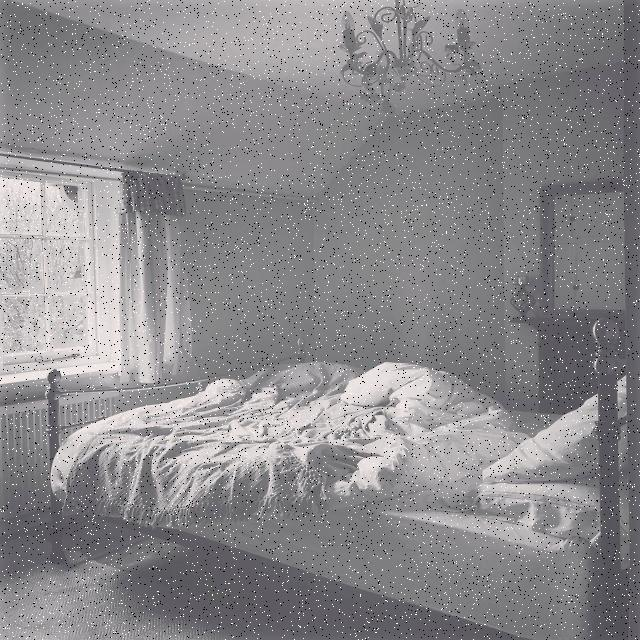bed: (43, 352, 640, 612)
